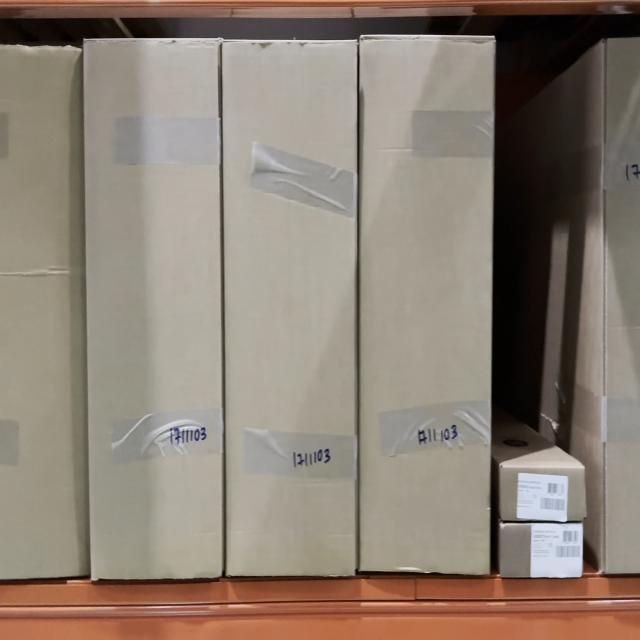box: (91, 41, 223, 575), (226, 41, 357, 575), (362, 39, 490, 574), (502, 470, 583, 521), (502, 524, 582, 575)
